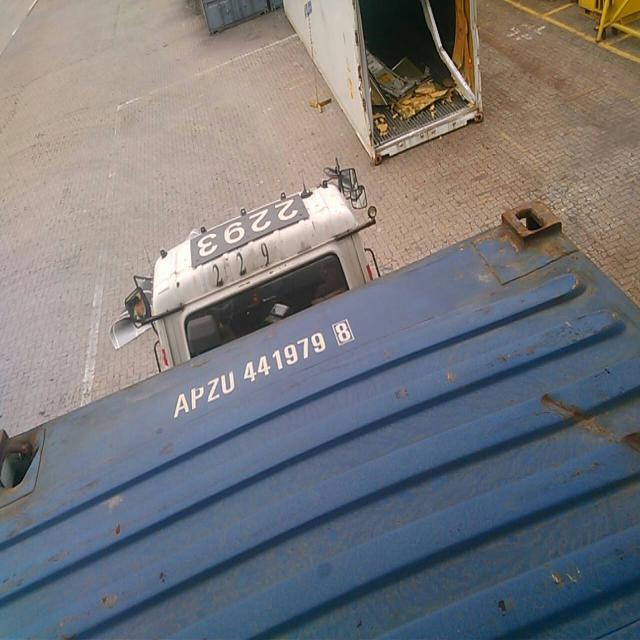hole: (1, 433, 48, 495)
